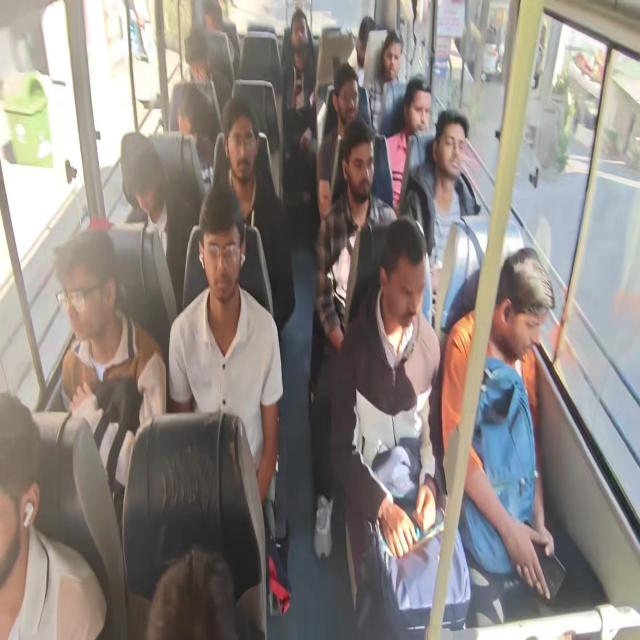person: (1, 368, 44, 598), (144, 537, 239, 640), (51, 236, 130, 338), (189, 183, 250, 299), (489, 250, 553, 356), (374, 212, 423, 331), (112, 124, 164, 217), (429, 109, 479, 186), (223, 86, 259, 188), (339, 128, 381, 206), (167, 81, 208, 151), (179, 27, 217, 102), (373, 21, 411, 83), (331, 59, 364, 124), (402, 68, 434, 131), (349, 8, 378, 56), (282, 5, 308, 52), (200, 0, 229, 40)
